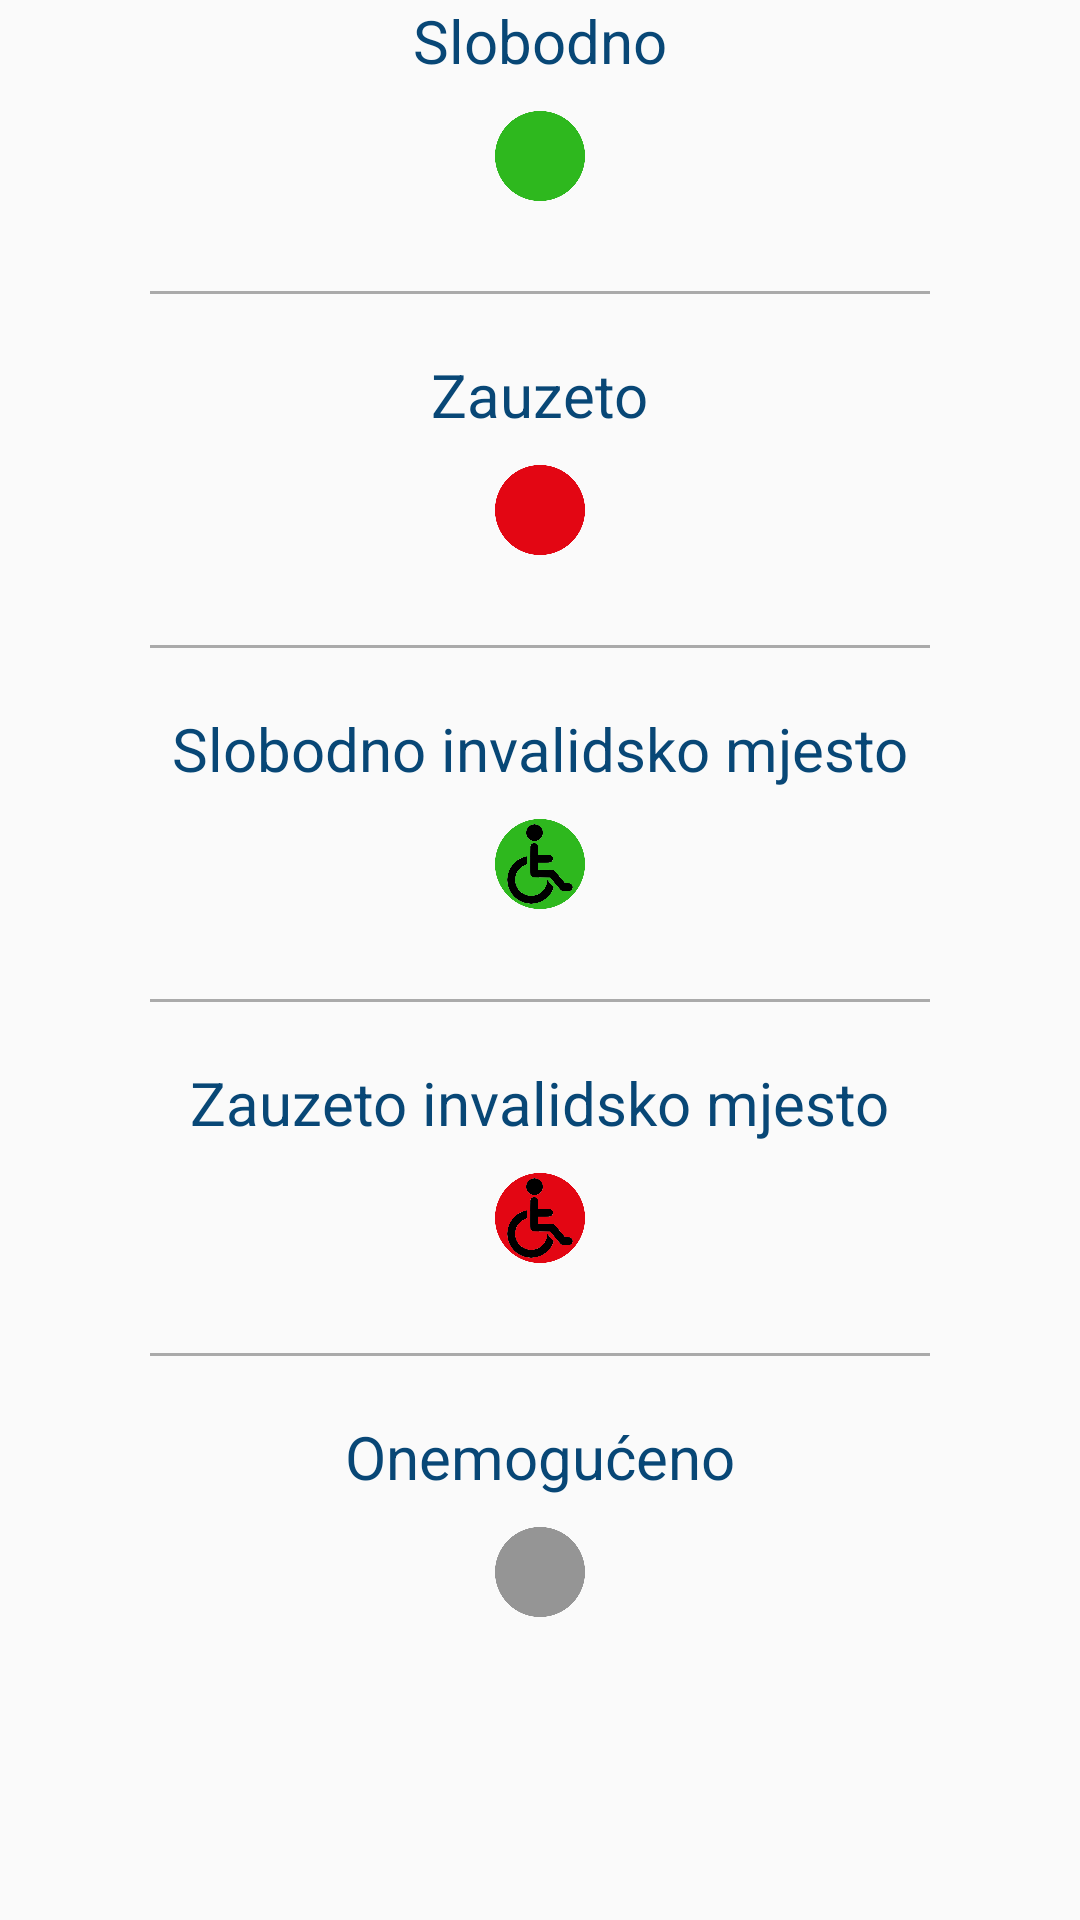

Named icons in this screenshot (1080x1920) and their centers, (x,y):
circle handicap: (540,864), (540,1218)
